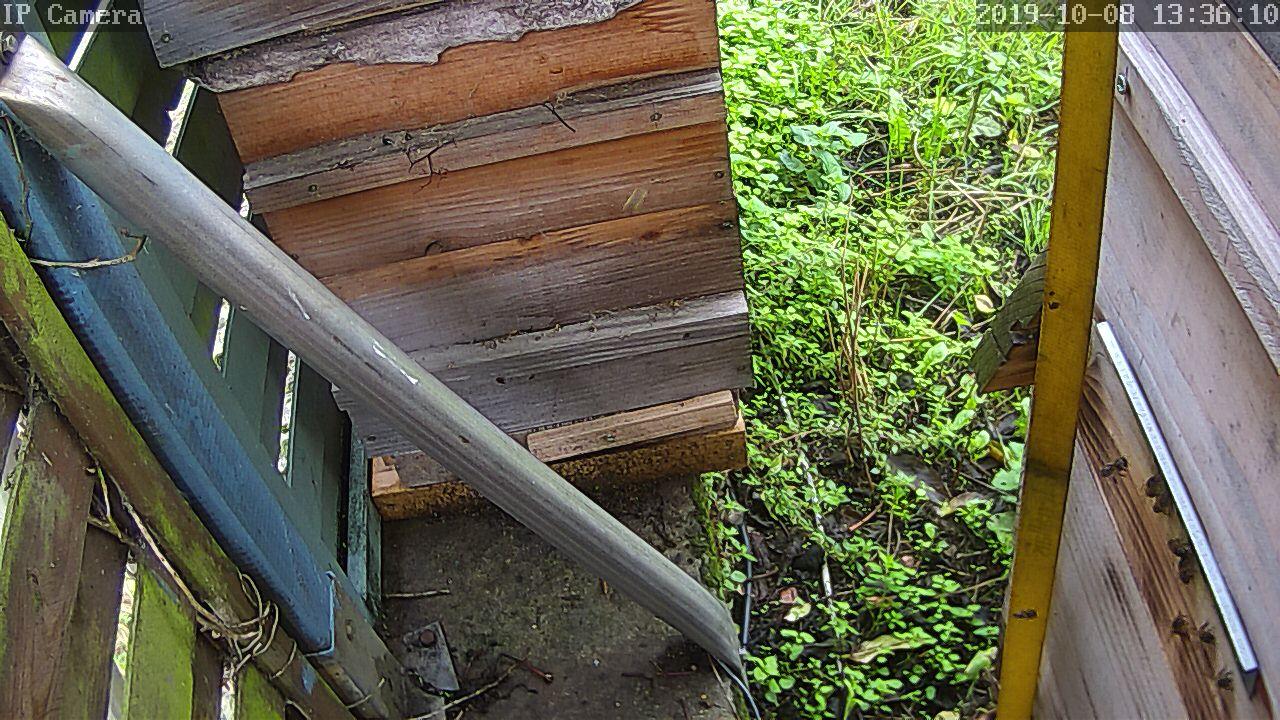bee: (1162, 610, 1225, 654), (1166, 536, 1202, 577), (1142, 476, 1179, 514), (1203, 665, 1239, 699), (1095, 452, 1126, 488)
